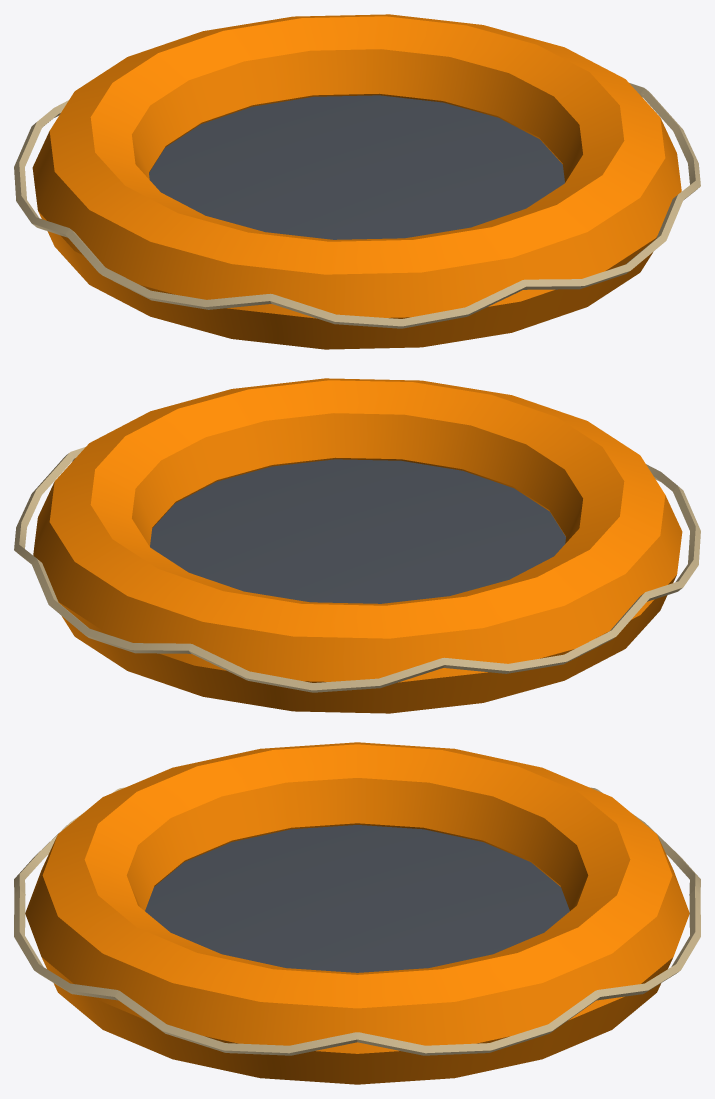
Rendered from recovery_raft.glb.
The picture shows the model from 3 angles, top to bottom: view 1: azimuth 30°, elevation 25°; view 2: azimuth 150°, elevation 25°; view 3: azimuth 270°, elevation 25°; orthographic projection.
Visible parts, largest first — view 1: Raft_Body; view 2: Raft_Body; view 3: Raft_Body.
Part boxes in pixels (x1,y1,x2,y2): Raft_Body: (14,14,700,349); Raft_Body: (14,378,700,713); Raft_Body: (14,742,700,1084).
Bounding box in the file's own units: 1.96 × 0.34 × 1.96.
1 material, 1 textured.
